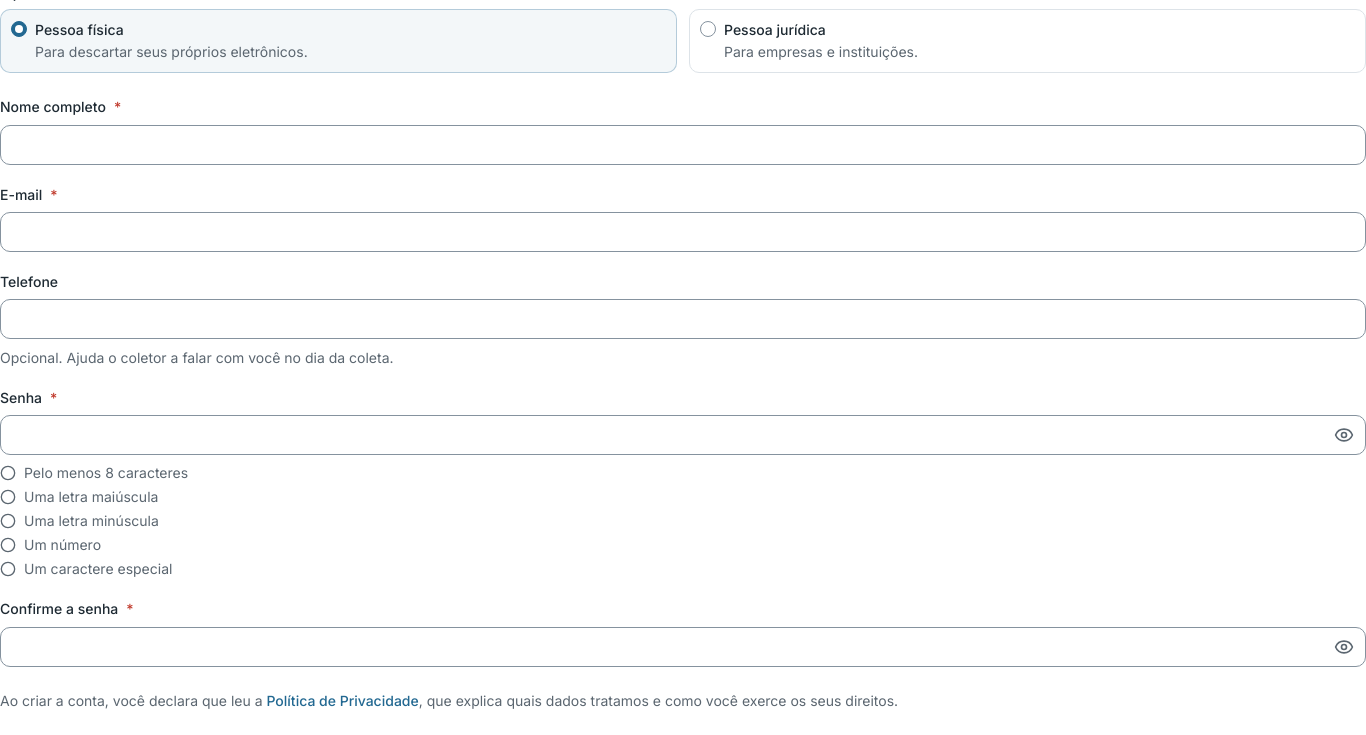
Test: RegistrationForm (11 §70, 17_TESTING §77) › impede envio com confirmação diferente
The width and height of the screenshot is (1366, 735).
In the field labelled "Nome completo *": point(683, 144) [0,124,1365,164], type "Mariana Oliveira"
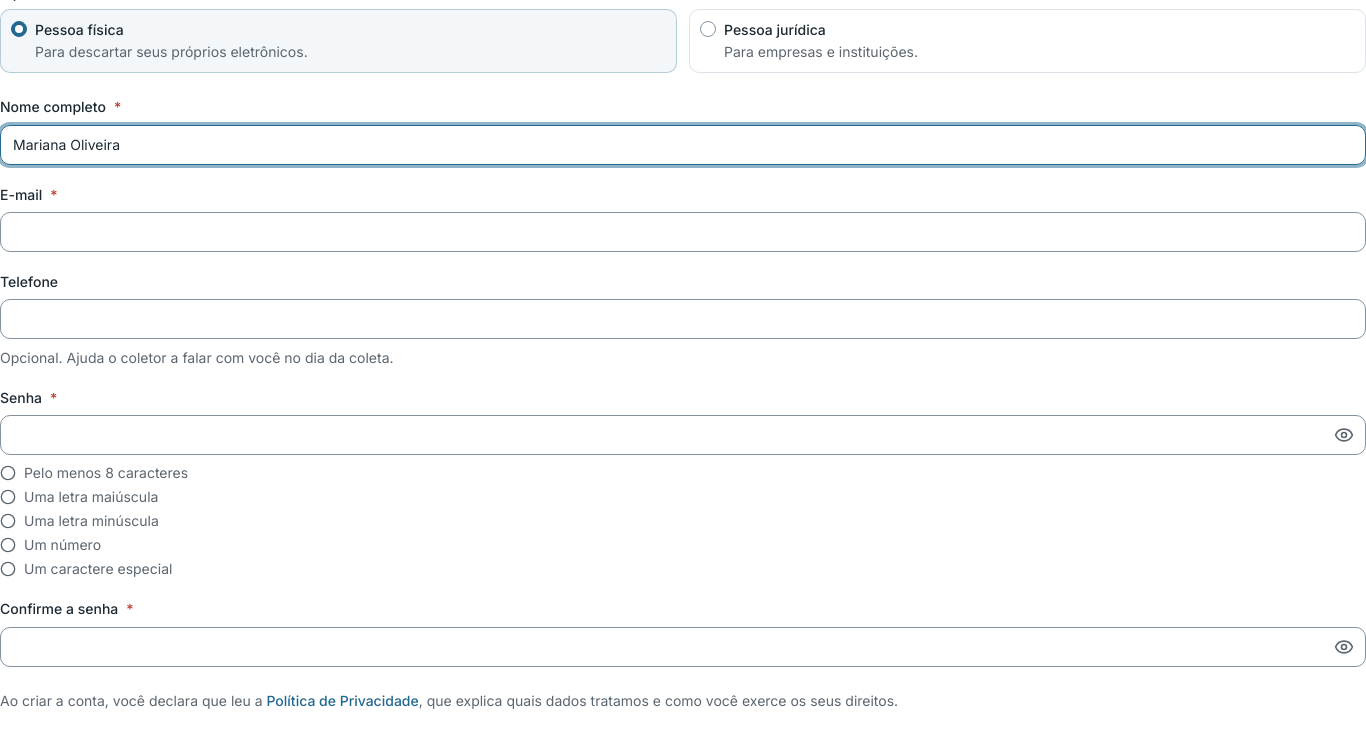
In the field labelled "E-mail *": point(683, 232) [0,212,1365,252], type "mariana@teste.local"
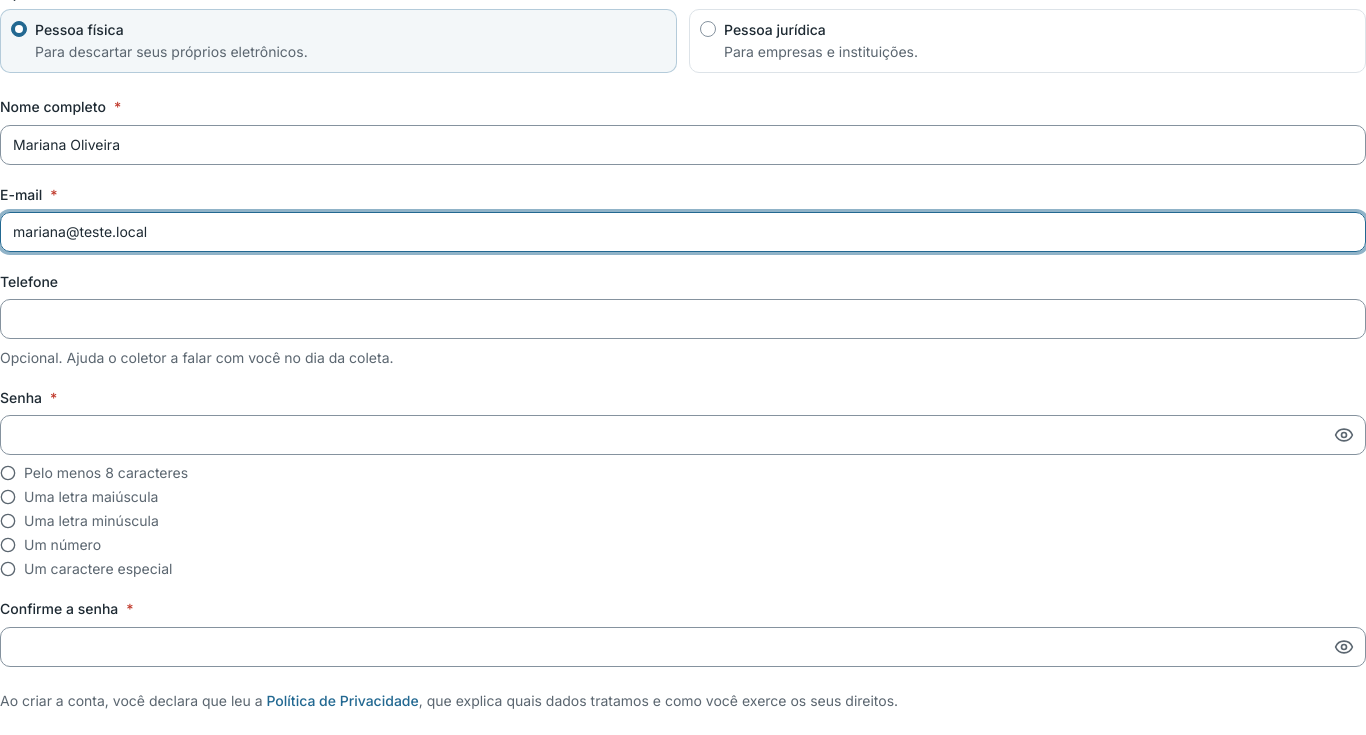
In the password field labelled "Senha *": point(683, 435) [0,415,1365,455], type "Senha@123"
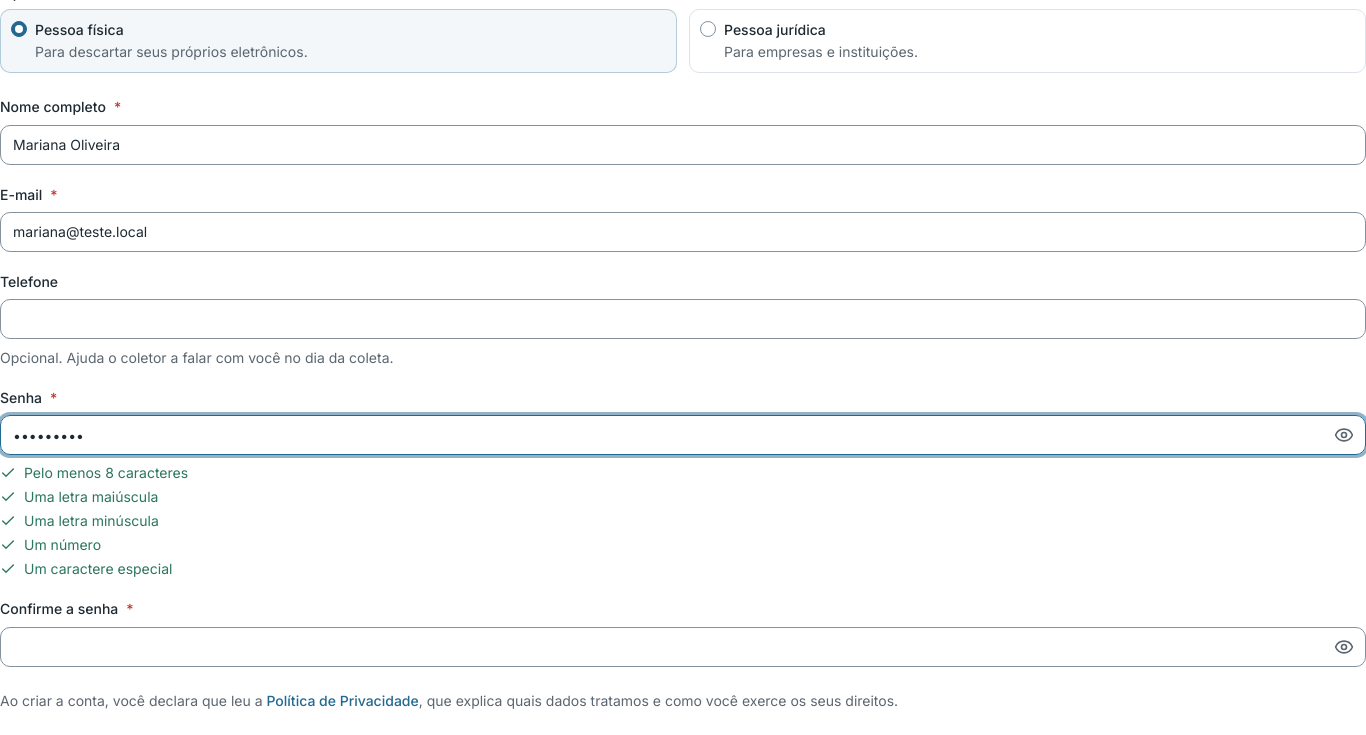
In the password field labelled "Confirme a senha *": point(683, 646) [0,626,1365,666], type "Outra@123"
(page scrolled)
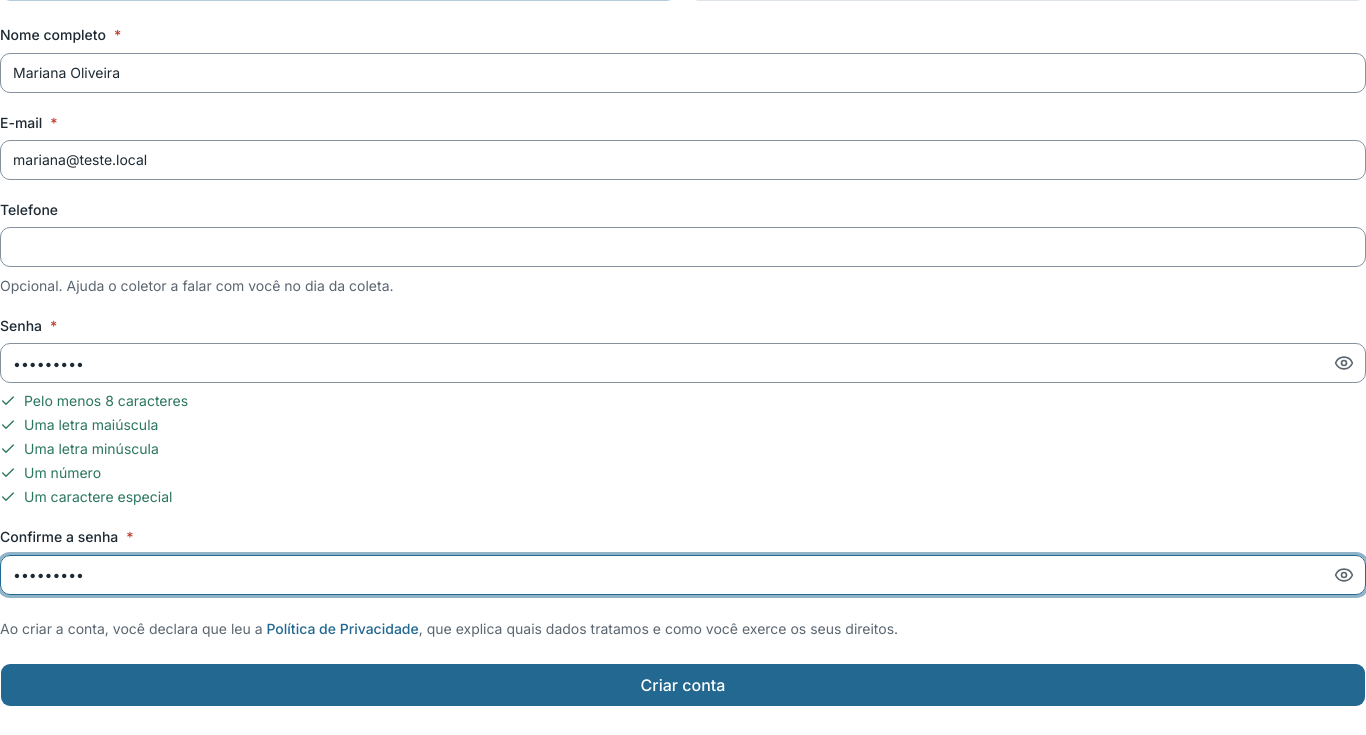
Click the button "Criar conta": point(683, 684) [0,662,1365,706]
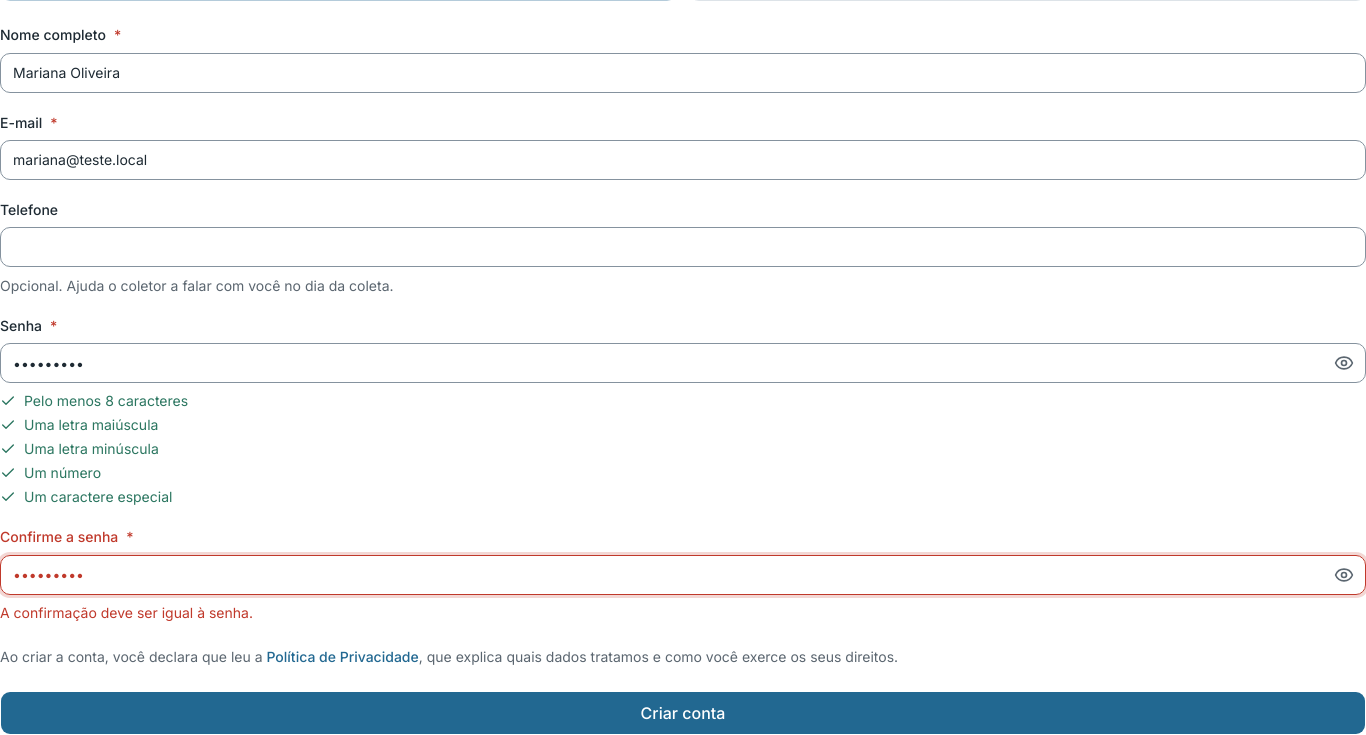
Now the text "A confirmação deve ser igual à senha." is shown, box [0,604,253,620]
